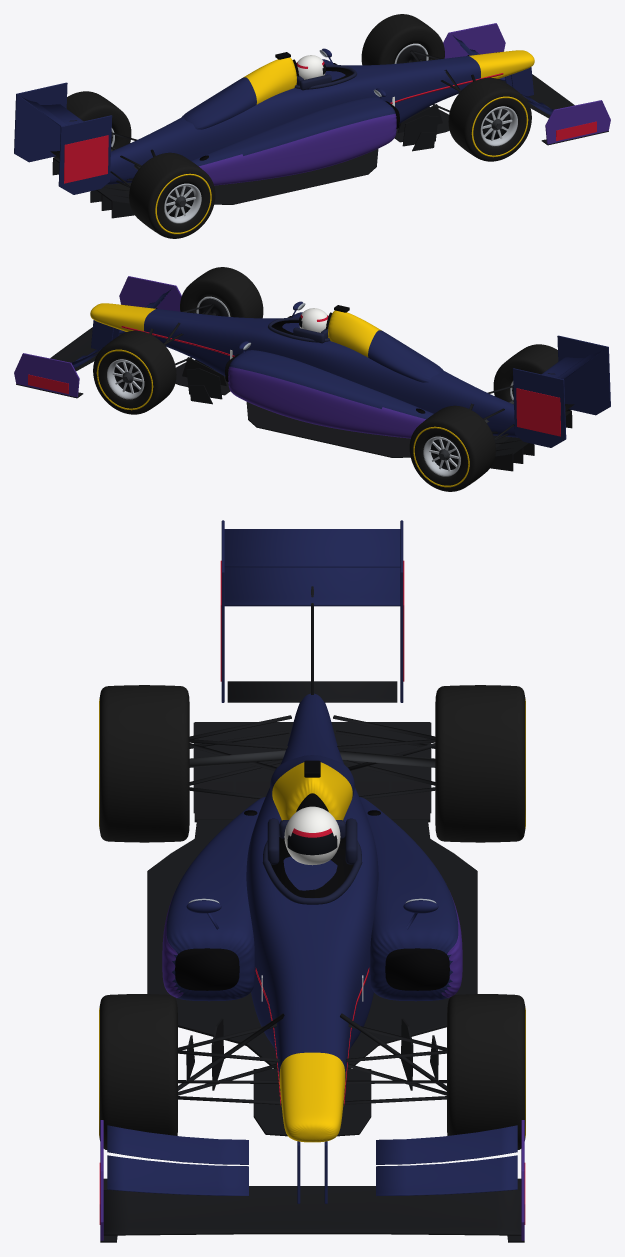
3 views of the same model, one above another, from view 1: azimuth 30°, elevation 25°; view 2: azimuth 150°, elevation 25°; view 3: azimuth 270°, elevation 25° (orthographic). The views are drawn at different scales.
Visible parts, largest first — view 1: body, wheel_rr, wheel_fr, wheel_fl, wheel_rl; view 2: body, wheel_rl, wheel_fl, wheel_fr, wheel_rr; view 3: body, wheel_rl, wheel_rr, wheel_fl, wheel_fr, drs_flap.
Part boxes in pixels (box(x1,y1,x2,y2)): body: box(14, 23, 610, 218); wheel_rr: box(129, 152, 215, 238); wheel_fr: box(448, 77, 531, 161); wheel_fl: box(361, 14, 444, 65); wheel_rl: box(54, 91, 131, 158); body: box(14, 276, 610, 471); wheel_rl: box(409, 405, 495, 491); wheel_fl: box(93, 330, 176, 414); wheel_fr: box(180, 267, 263, 318); wheel_rr: box(493, 344, 570, 411); body: box(99, 520, 525, 1242); wheel_rl: box(435, 685, 525, 842); wheel_rr: box(99, 685, 189, 842); wheel_fl: box(447, 994, 525, 1149); wheel_fr: box(99, 994, 177, 1149); drs_flap: box(224, 529, 400, 567).
Bounding box in the file's own units: 0.2838 × 0.0587 × 0.1006.
